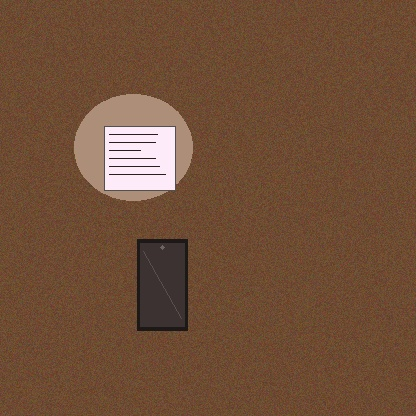cell_phone: (137, 239, 187, 330)
exam_chit: (104, 126, 175, 190)
